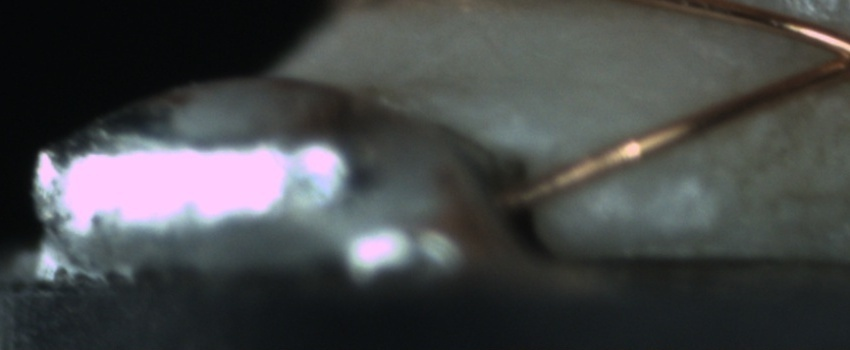CL: (800, 16, 850, 85)
